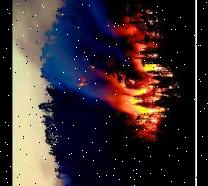fire: (106, 7, 180, 138)
